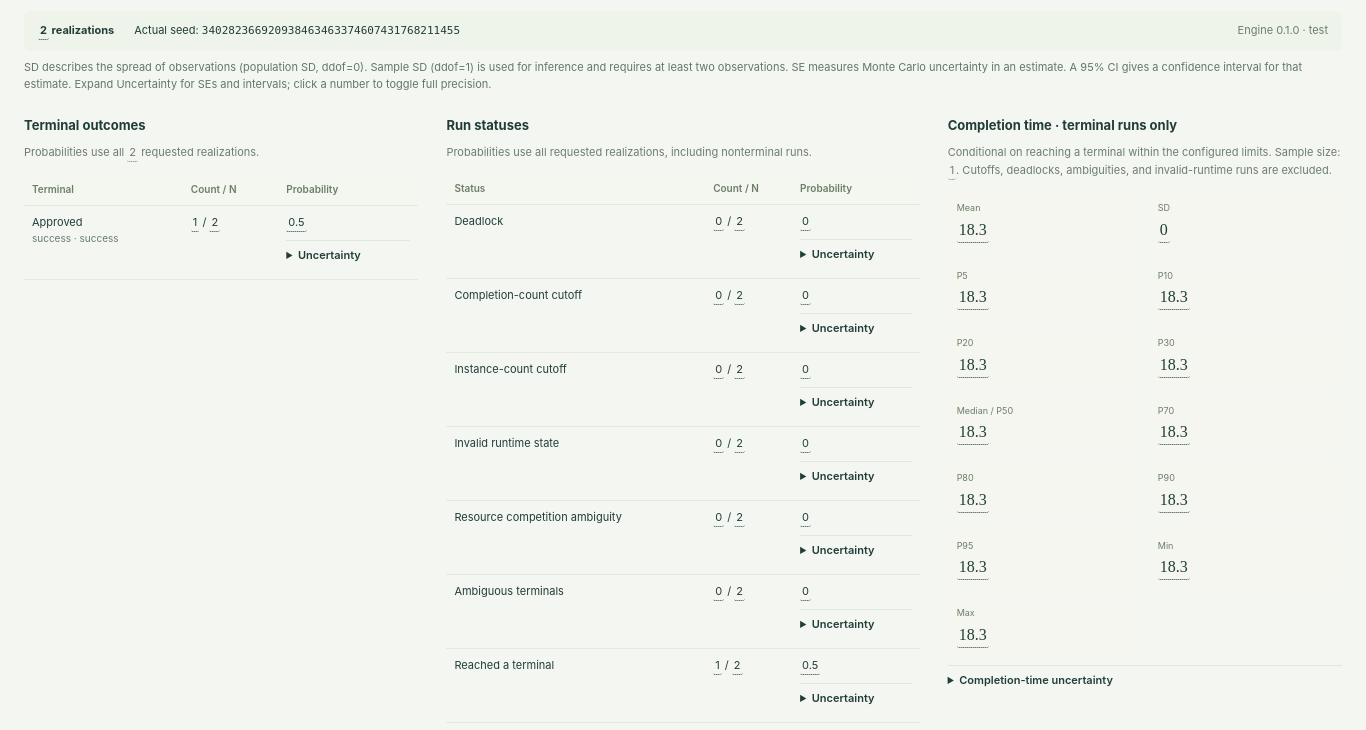
it: statistical results › discloses unavailable mean and quantile uncertainty with a small-sample explanation
The image size is (1366, 730).
What coordinates should you click on to do the following:
click the heading "Completion-time uncertainty"
I would click on:
 (1036, 680)
Its box is [959, 673, 1113, 687].
(page scrolled)
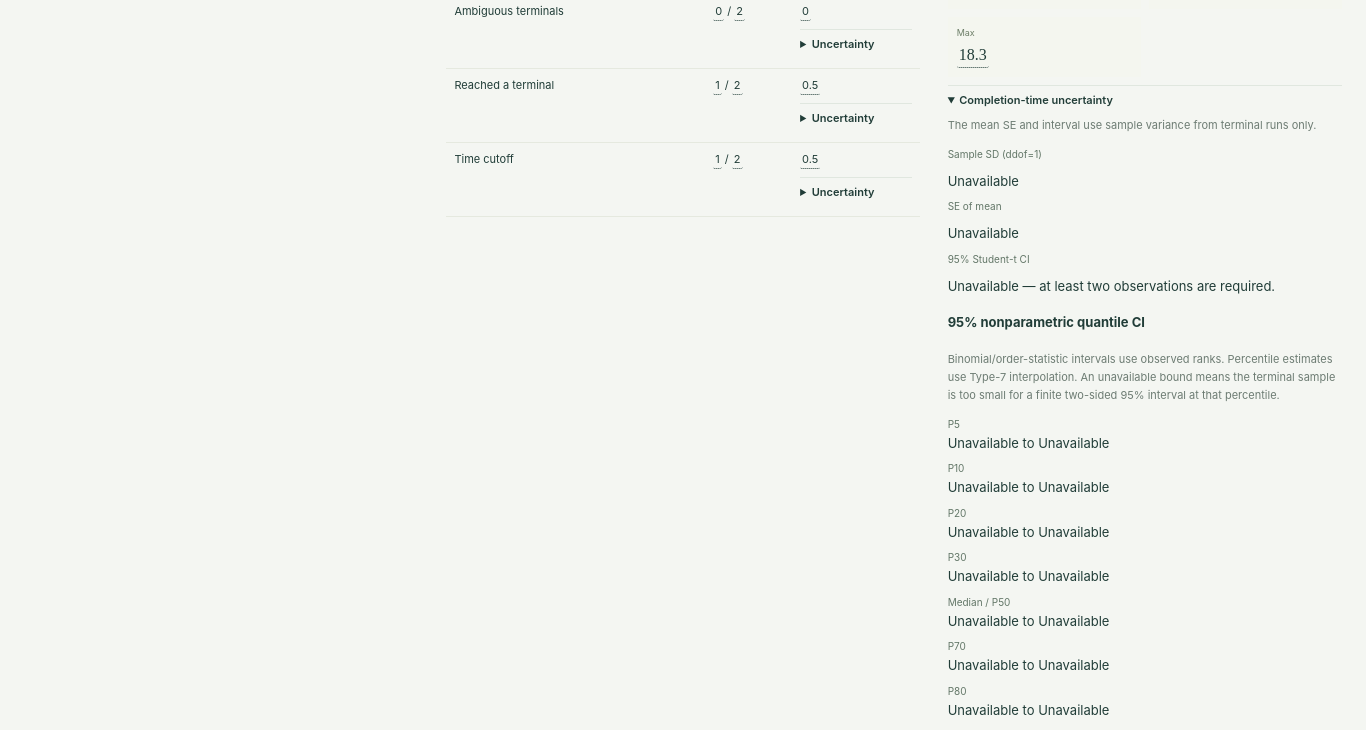
Check: the text "SE of mean" is shown, box [948, 200, 1002, 212]
Check: the text "95% Student-t CI" is shown, box [948, 253, 1030, 265]
Check: the text "Unavailable — at least two observations are required." is shown, box [948, 278, 1275, 294]
